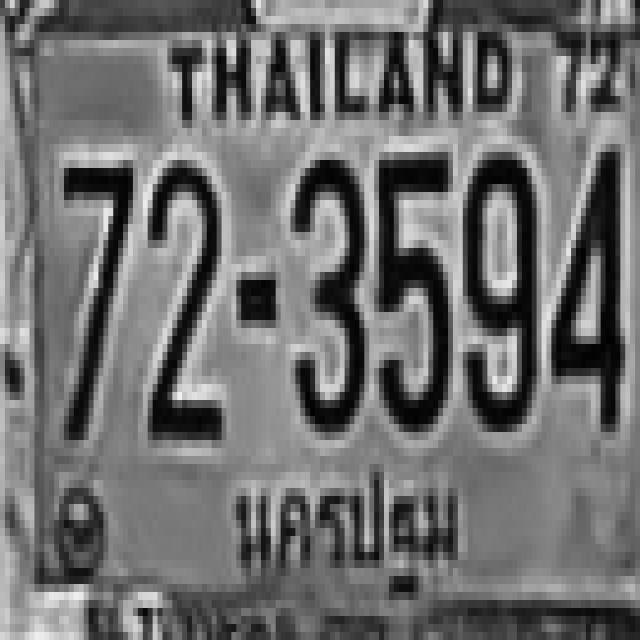2: (145, 156, 219, 436)
3: (288, 152, 362, 424)
4: (546, 136, 620, 424)
5: (374, 144, 448, 424)
7: (59, 156, 133, 436)
9: (460, 144, 534, 424)
NakhonPathom: (223, 446, 470, 602)
